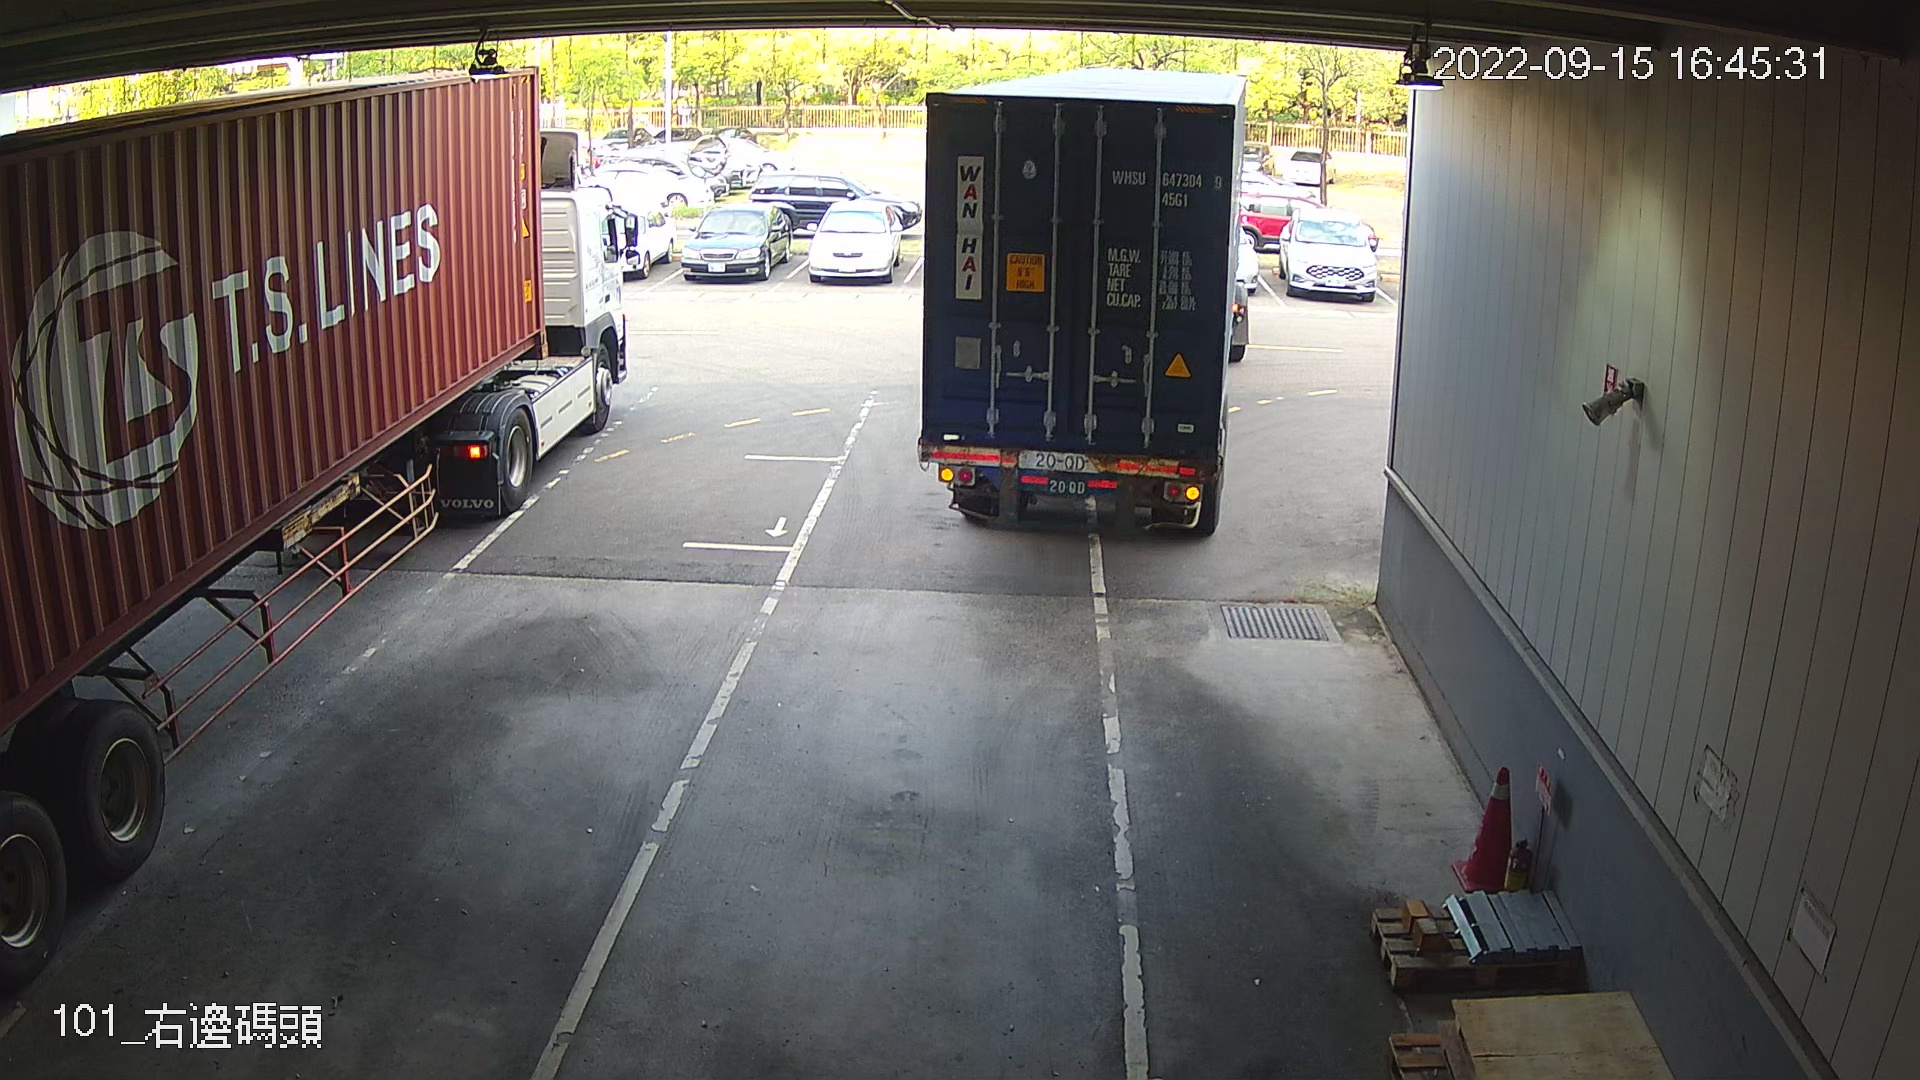container: (1106, 161, 1226, 211)
